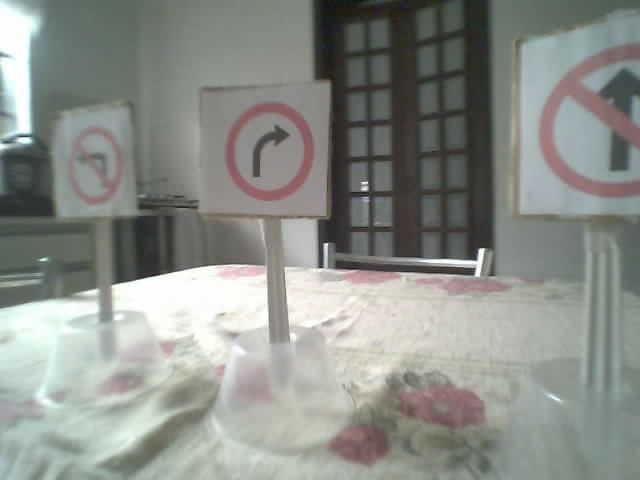R-25b_direita: (224, 101, 315, 202)
R-3_sentido-proibido: (538, 41, 638, 195)
R-4a_proibido-esquerda: (69, 125, 123, 204)
